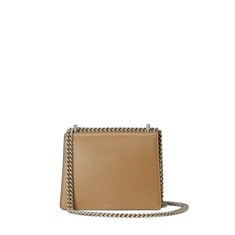Gucci: (59, 122, 178, 223)
